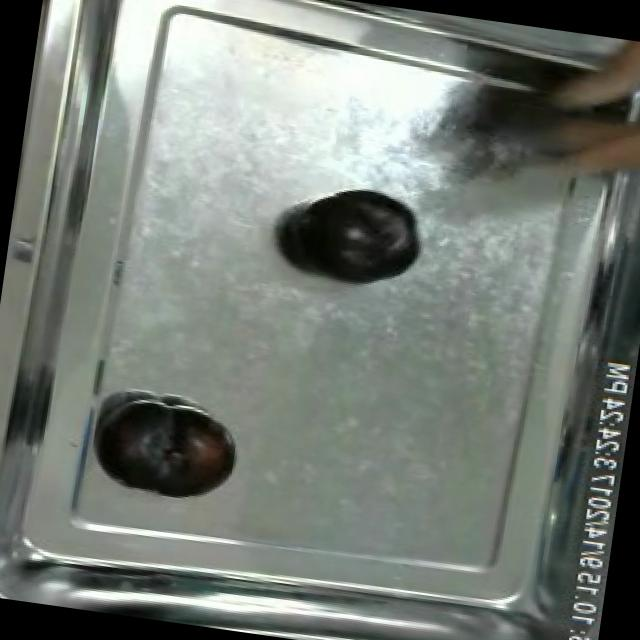Fruit: (274, 176, 431, 299), (89, 392, 247, 508)
